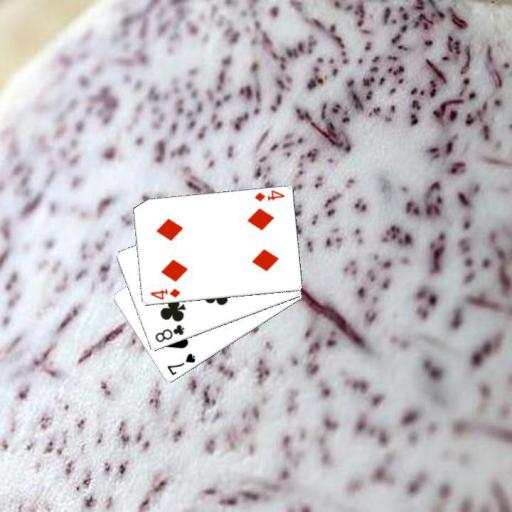4D: (148, 286, 182, 301), (251, 188, 285, 203)
7S: (164, 350, 197, 377)
8C: (152, 322, 186, 345)
